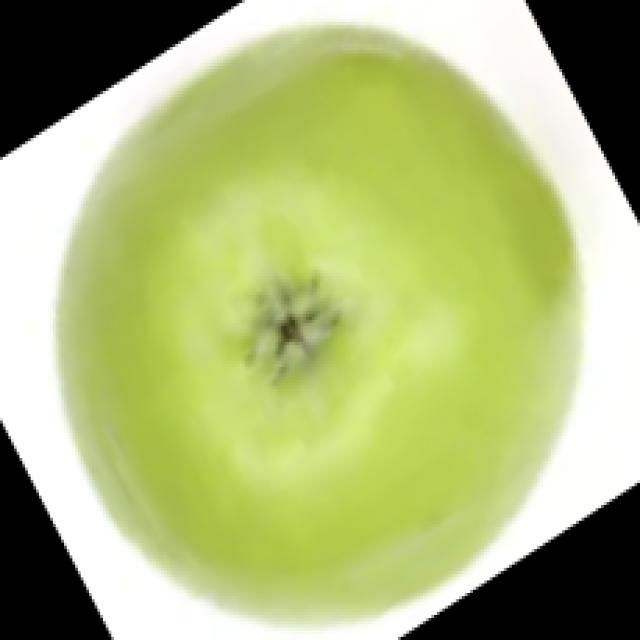Apple: (52, 21, 585, 629)
